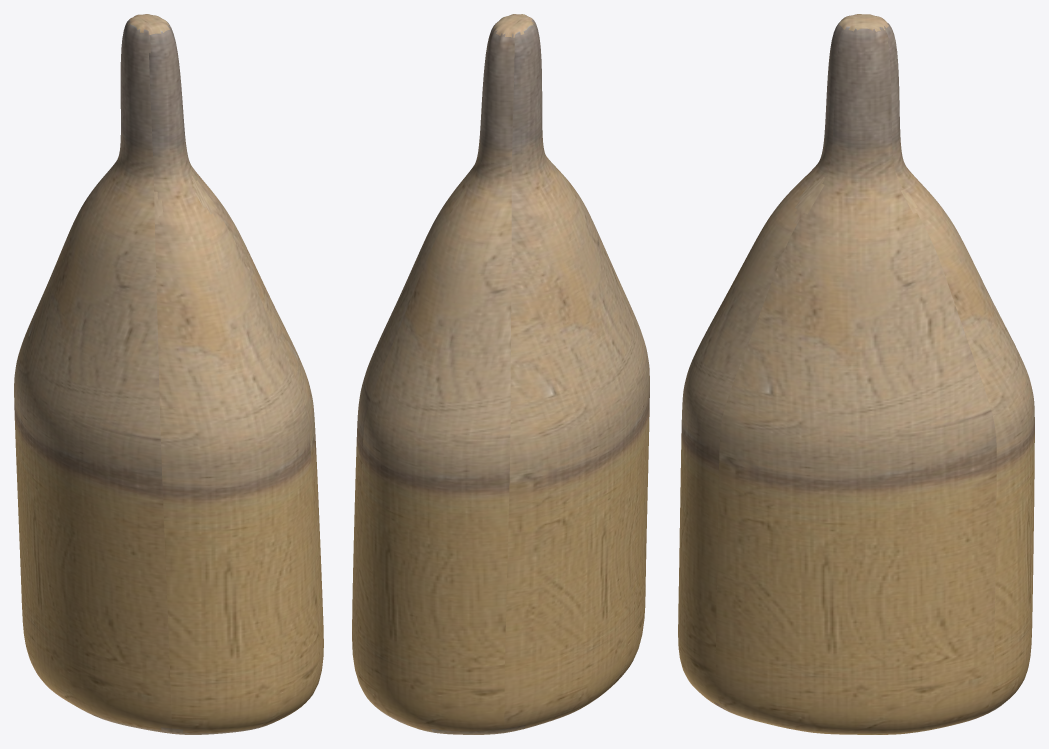
Rendered from morandibottle.obj.
The picture shows the model from 3 angles, left to right: view 1: azimuth 30°, elevation 25°; view 2: azimuth 150°, elevation 25°; view 3: azimuth 270°, elevation 25°; orthographic projection.
Visible parts, largest first — view 1: 000_Cylinder_-_baked; view 2: 000_Cylinder_-_baked; view 3: 000_Cylinder_-_baked.
Part boxes in pixels (x1,y1,x2,y2): 000_Cylinder_-_baked: (14, 14, 323, 734); 000_Cylinder_-_baked: (352, 14, 649, 734); 000_Cylinder_-_baked: (678, 14, 1034, 734).
Bounding box in the file's own units: 96.26 × 251 × 122.
Materials: 1 (1 with a texture image).
